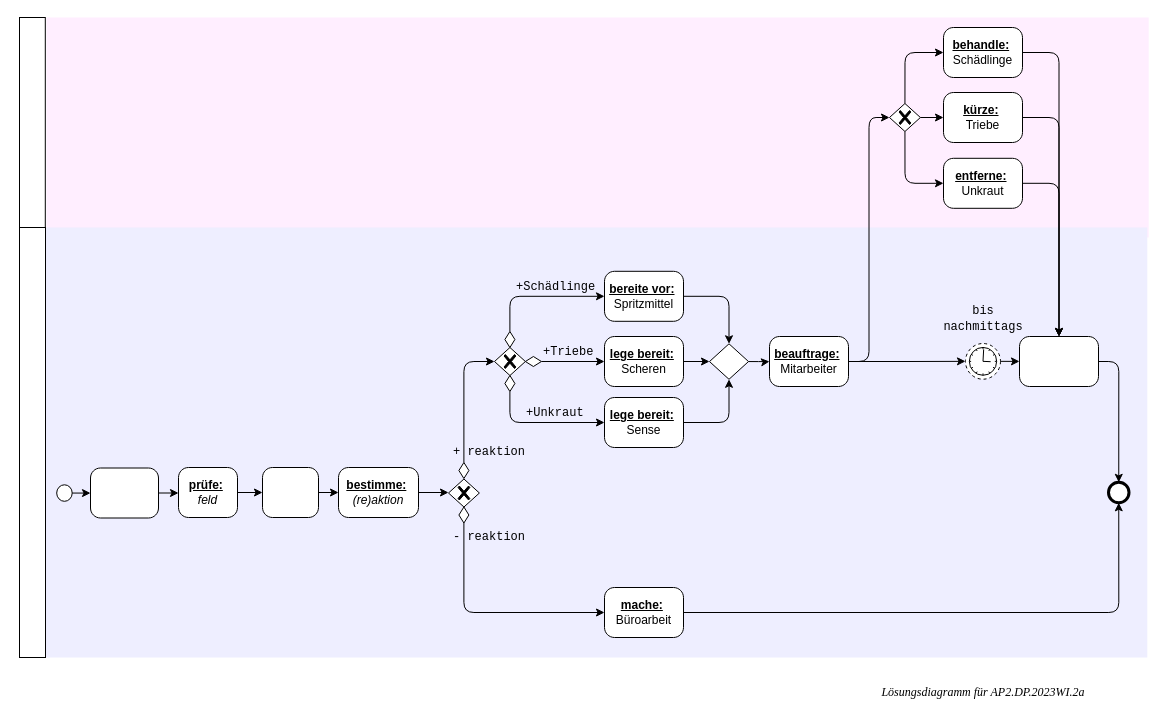
This 1166x725 diagram has some shape labels left out. The centre of each missing label's shape, as x and y in pixels:
"bestimme: tag" goes at point (124, 492).
"kontrolliere: Mitarbeiterl" goes at point (1058, 361).
"messe: oechsle" goes at point (290, 492).
"Mitarbeiten" goes at point (31, 122).
"Winzerin" goes at point (32, 442).
